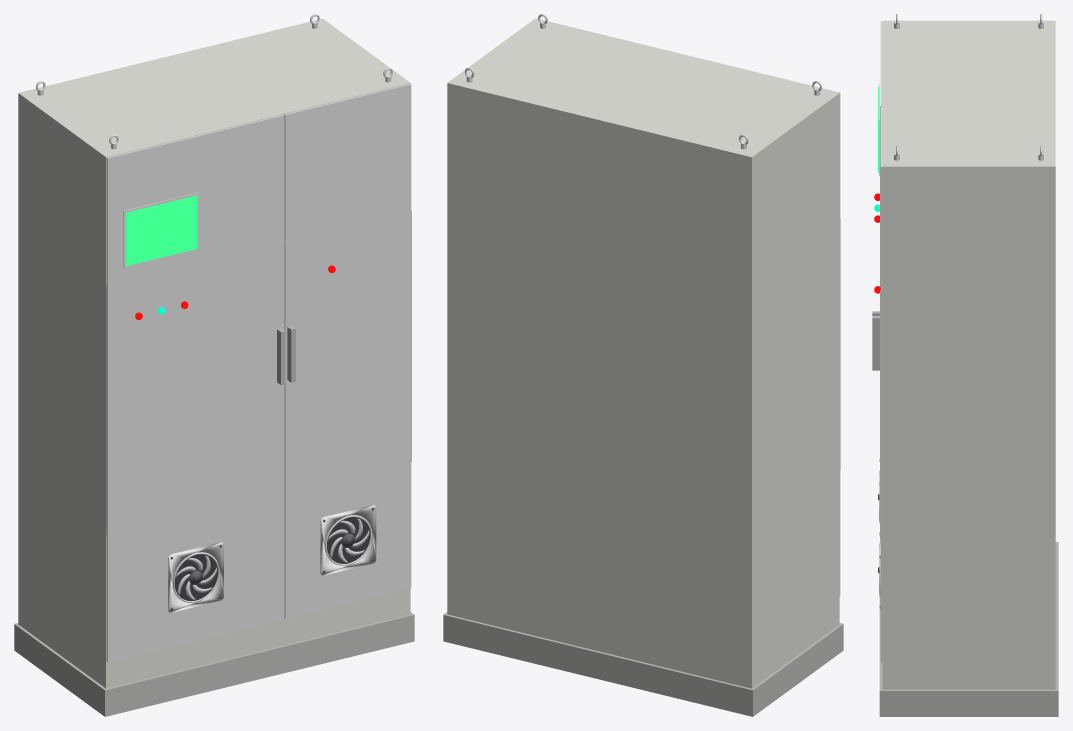
The model's file is Combiner_cabinet.glb.
3 renders of one model, left to right at view 1: azimuth 30°, elevation 25°; view 2: azimuth 150°, elevation 25°; view 3: azimuth 270°, elevation 25°, orthographic.
Parts seen in each view (by area): view 1: Cabinet_Shell, Door_Left, Door_Right, Base_Plinth, HMI_Screen, Fan_R_Plate, Fan_L_Plate, Fan_R_Well, Fan_L_Well, HMI_Bezel; view 2: Cabinet_Shell, Base_Plinth, Door_Left; view 3: Cabinet_Shell, Base_Plinth, Door_Right, Gap_R_Right, Handle_Right.
Boxes of the visible parts, <box> form: Cabinet_Shell: <box>18,18,410,688</box>; Door_Left: <box>106,114,284,661</box>; Door_Right: <box>284,83,411,618</box>; Base_Plinth: <box>14,612,414,716</box>; HMI_Screen: <box>125,195,197,266</box>; Fan_R_Plate: <box>320,505,376,575</box>; Fan_L_Plate: <box>168,542,223,612</box>; Fan_R_Well: <box>327,517,370,563</box>; Fan_L_Well: <box>174,554,217,601</box>; HMI_Bezel: <box>123,192,198,268</box>; Cabinet_Shell: <box>447,18,839,688</box>; Base_Plinth: <box>443,612,843,716</box>; Door_Left: <box>663,49,840,596</box>; Cabinet_Shell: <box>882,20,1055,689</box>; Base_Plinth: <box>879,542,1058,716</box>; Door_Right: <box>880,106,882,662</box>; Gap_R_Right: <box>880,291,882,538</box>; Handle_Right: <box>872,316,879,370</box>.
Bounding box in the file's own units: 1.22 × 2.15 × 0.645.
